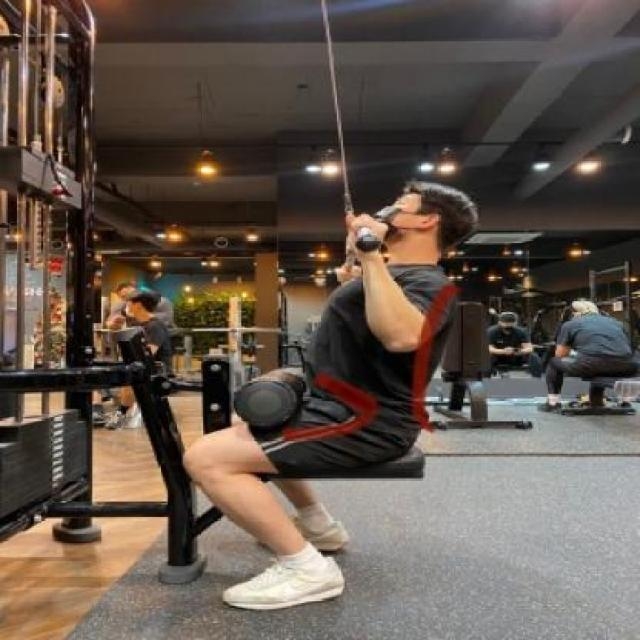Lat Pull Down: (0, 0, 508, 602)
